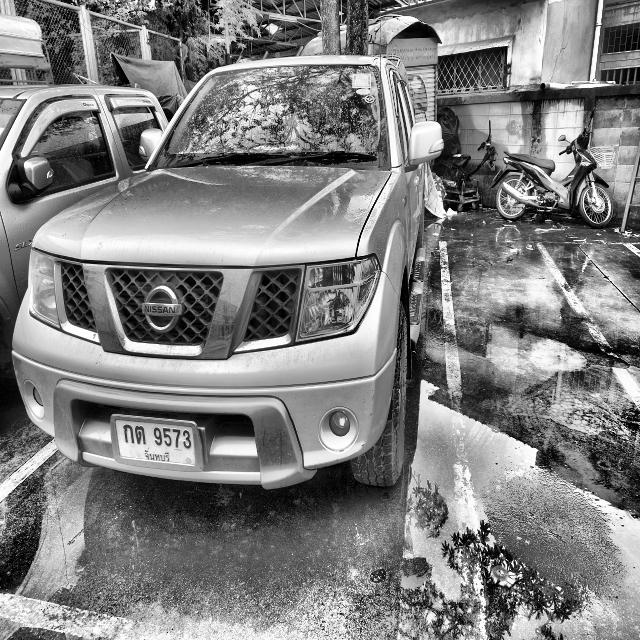license-plate: (107, 404, 205, 474)
